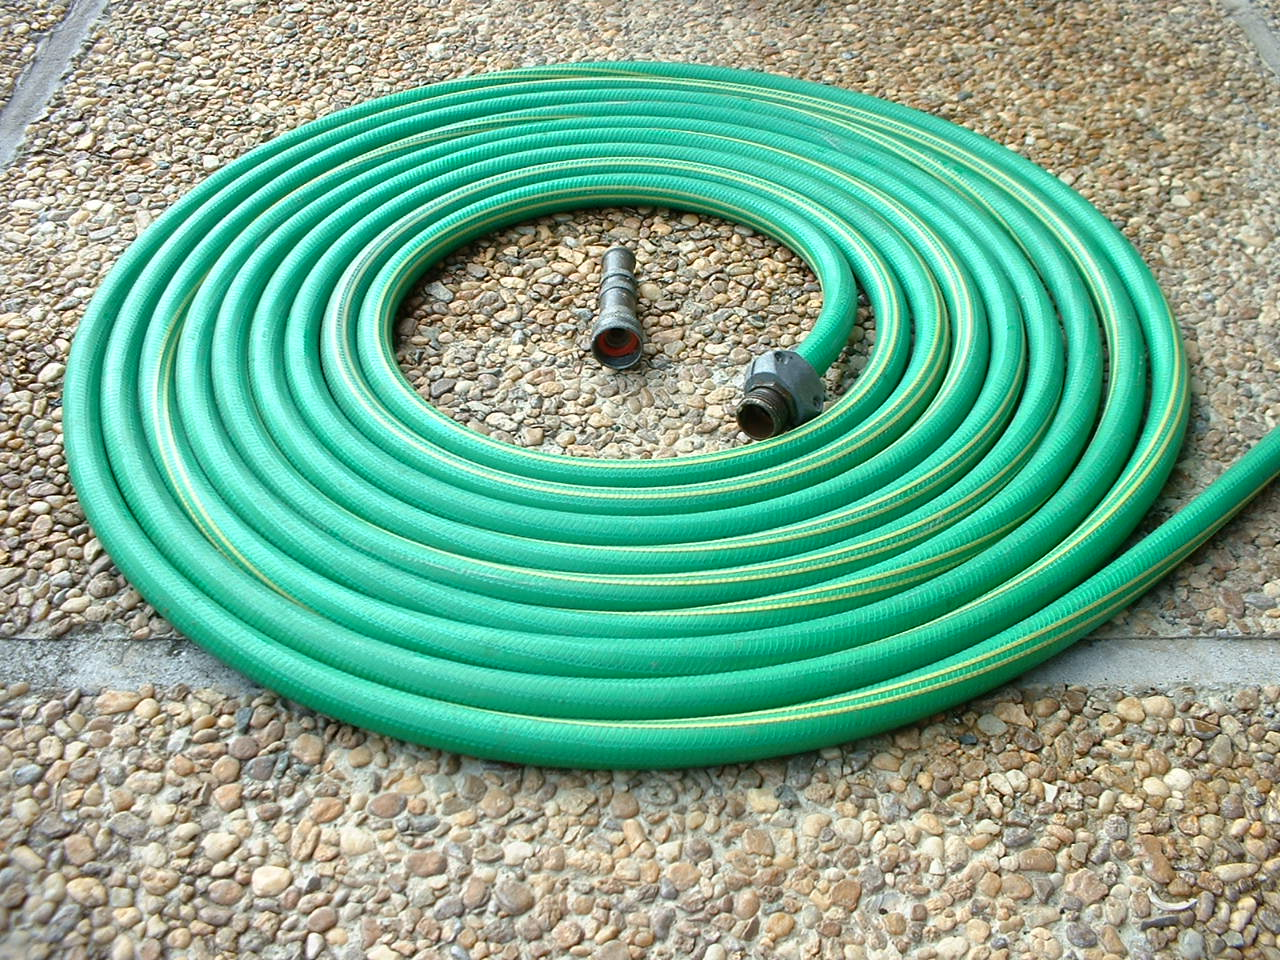Nonrec_Tangler: (50, 45, 1255, 810)
